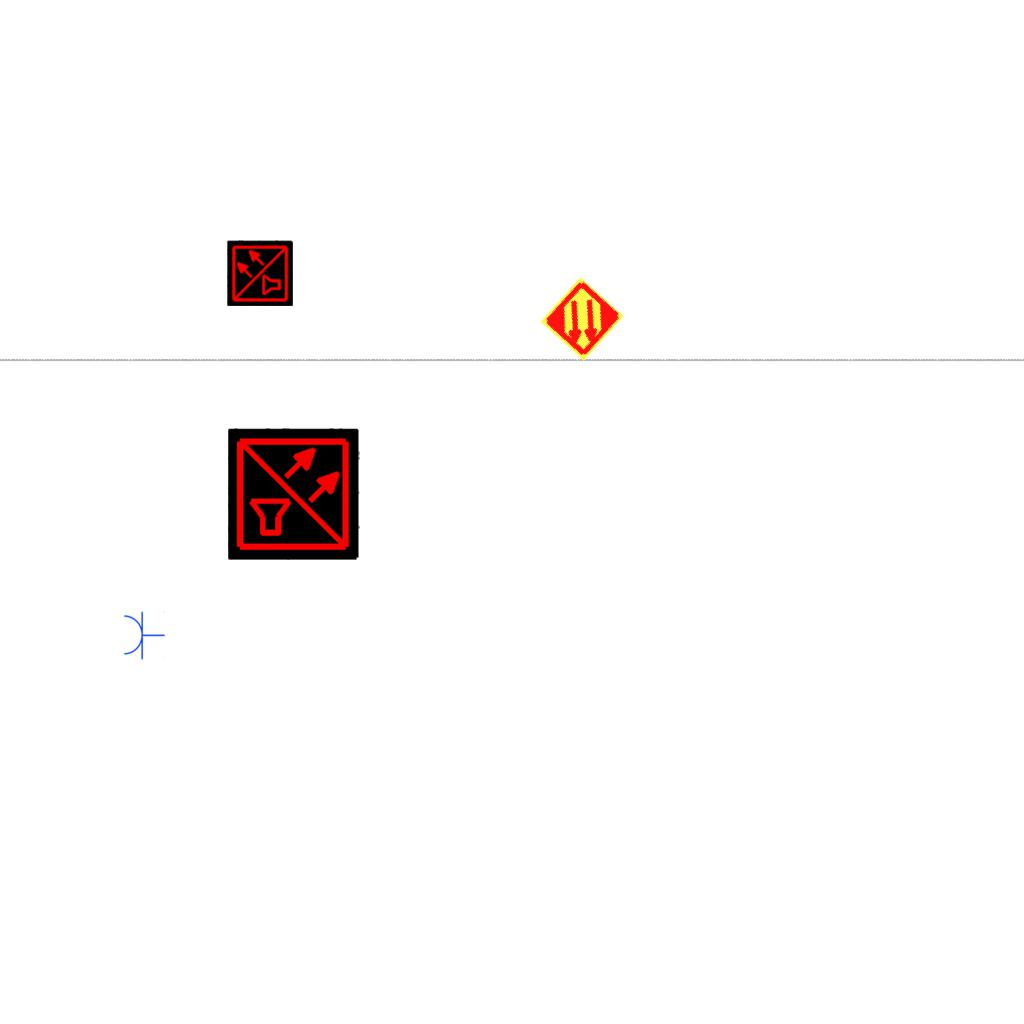ASR_Ansaugrauchmelder: (538, 275, 626, 363)
OKW_Multisensormelder_(Kombination_optischer_Rauch-Kahlenmonoxid_Waerme-Melder): (228, 428, 360, 560), (227, 240, 293, 306)
Schukosteckdose_einfach: (122, 610, 165, 660)
